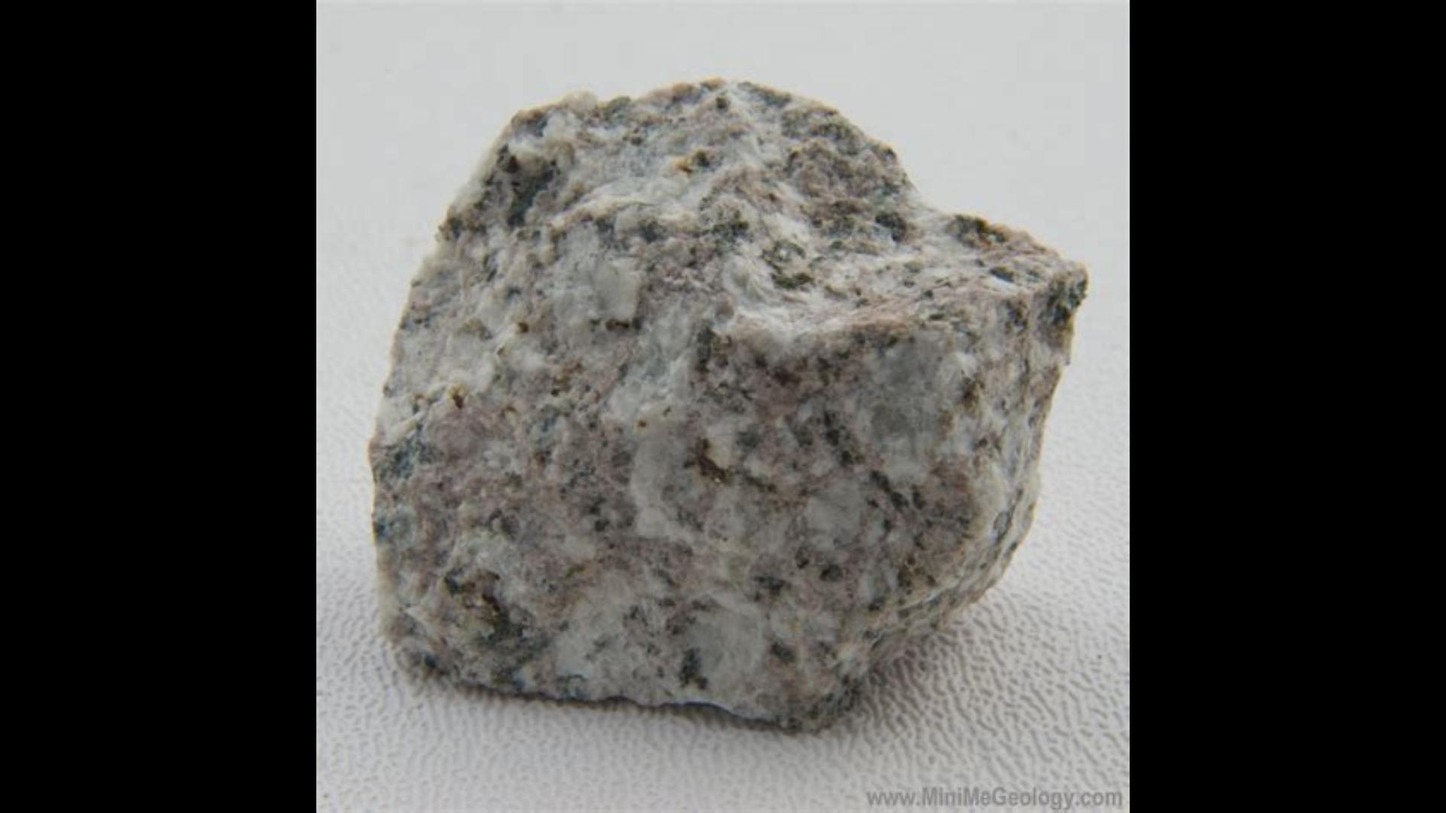rock: (371, 84, 1082, 720)
